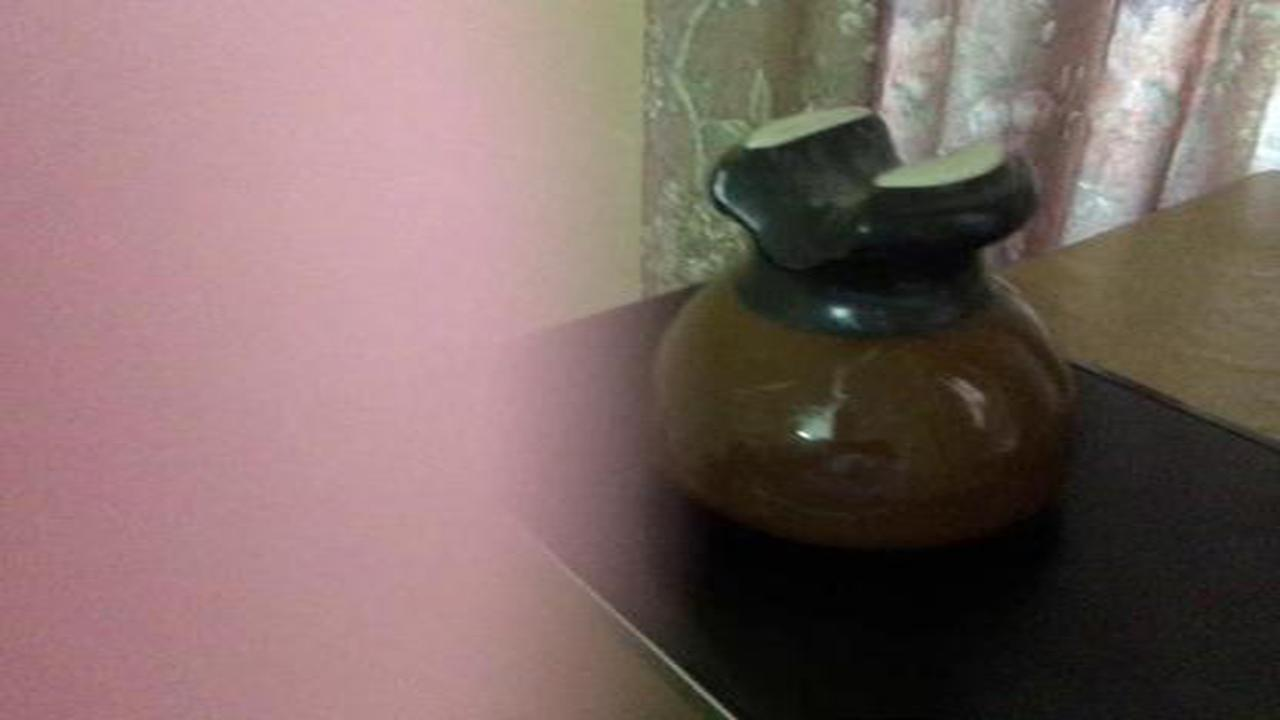insulator_pin: (634, 97, 1099, 570)
